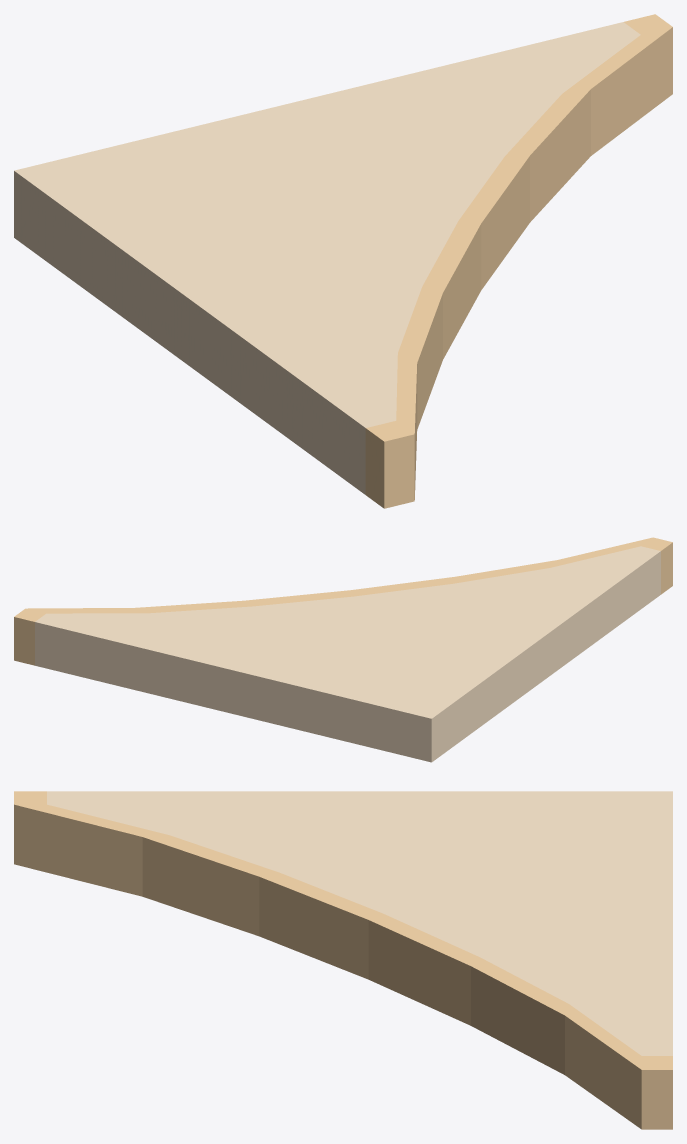
The model's file is BanquetaTrunca.obj.
3 renders of one model, top to bottom at view 1: azimuth 30°, elevation 25°; view 2: azimuth 150°, elevation 25°; view 3: azimuth 270°, elevation 25°, orthographic. The views are drawn at different scales.
Visible parts, largest first — view 1: Cube.004; view 2: Cube.004; view 3: Cube.004.
Part boxes in pixels (<box>): Cube.004: <box>14,14,672,508</box>; Cube.004: <box>14,537,672,762</box>; Cube.004: <box>14,791,672,1129</box>.
Bounding box in the file's own units: 2 × 0.2005 × 2.
